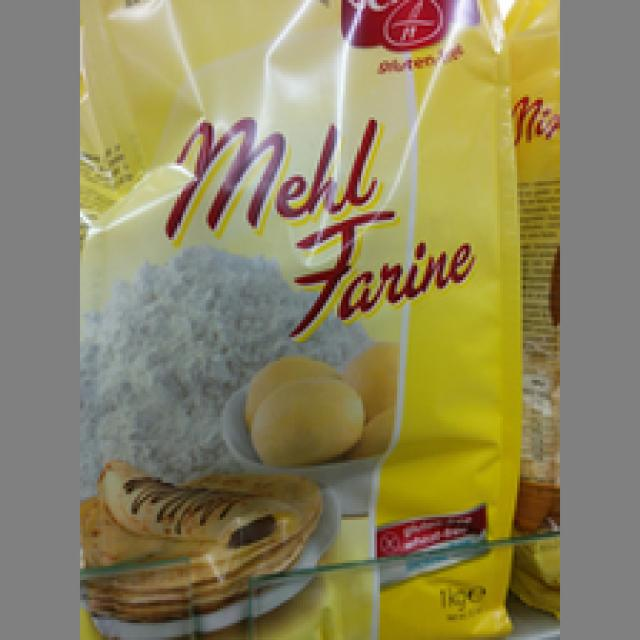groceries: (80, 0, 520, 634)
